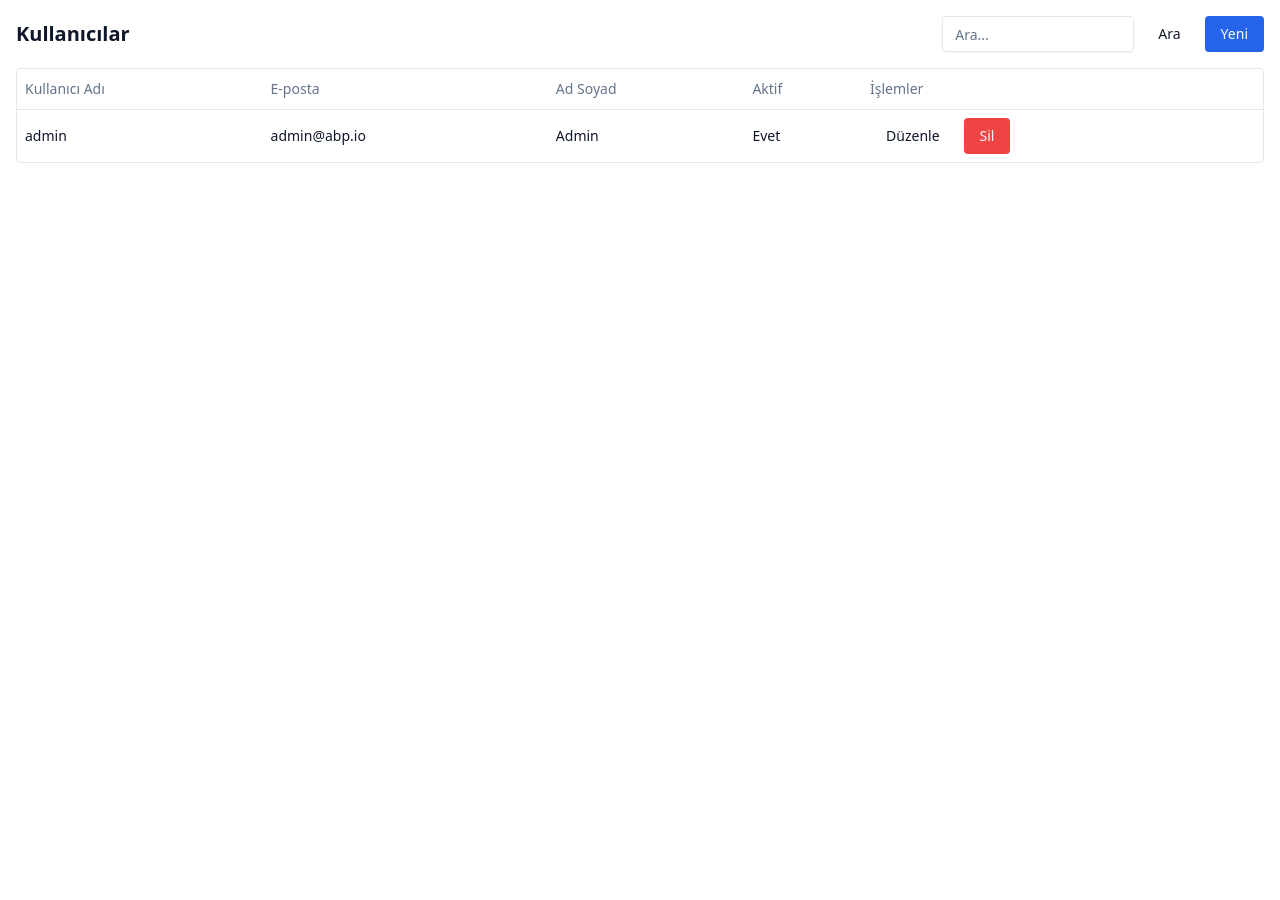
UsersPage integration (MSW) › opens the create modal when the Yeni button is clicked
The image size is (1280, 900).
Expected: the text "admin" is shown, [17,109,263,162]
Note: Click the create button (rendered by CrudPage as "Yeni")
Click the button "Yeni". click: x=1234, y=34
box: [1205,16,1264,52]
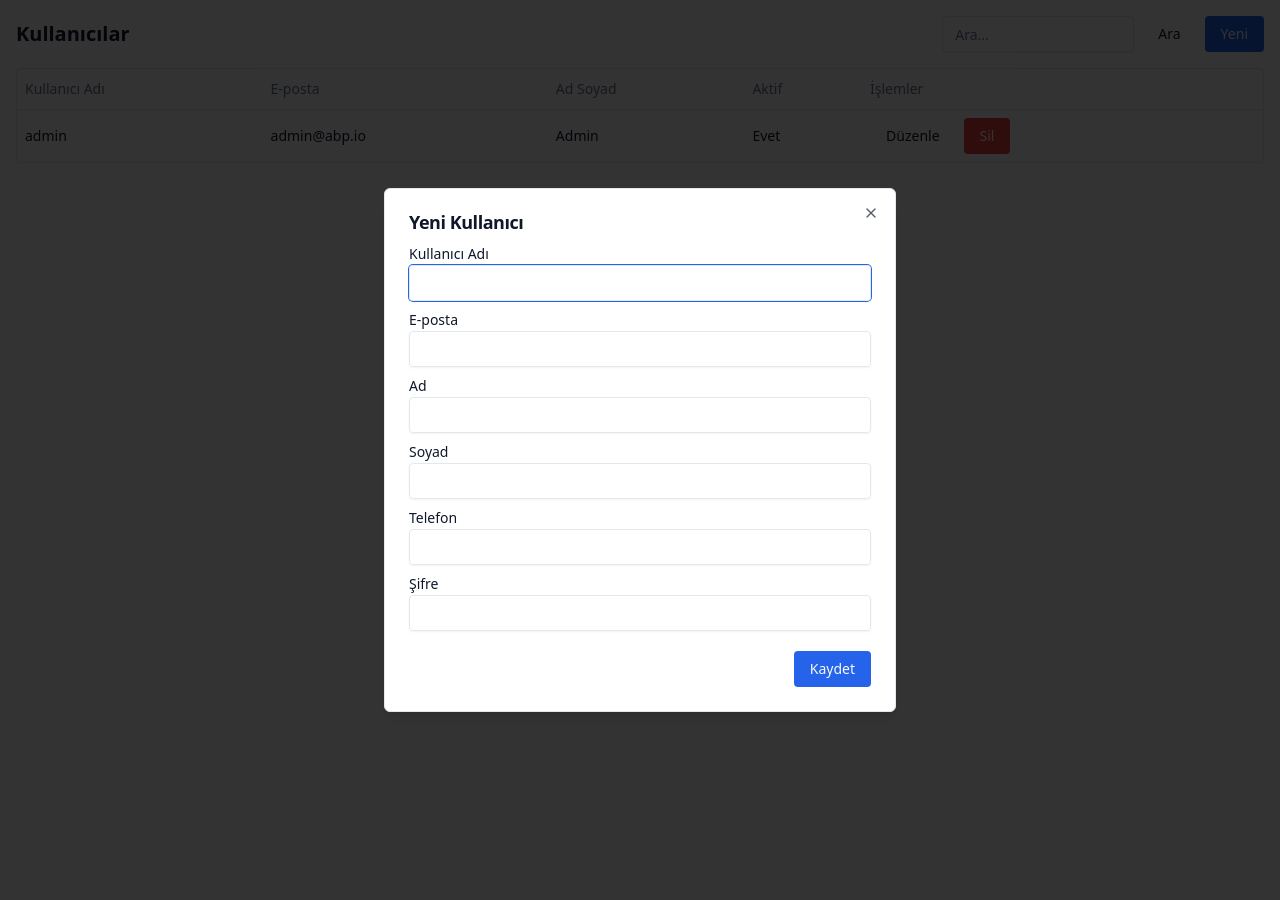
Expected: the heading "Yeni Kullanıcı" is shown, [409,210,523,234]
Expected: the field labelled "Kullanıcı Adı" is shown, [409,265,871,301]
Expected: the field labelled "E-posta" is shown, [409,331,871,367]
